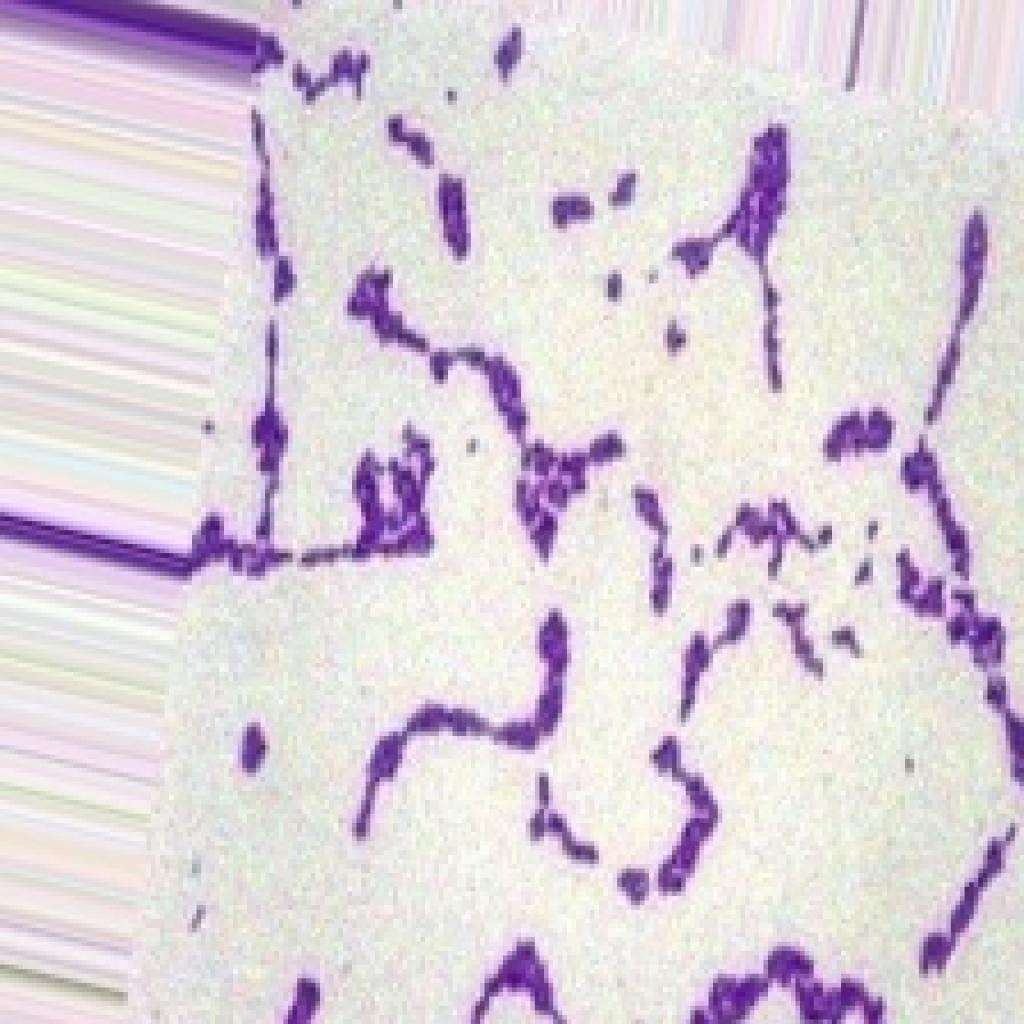Rodbacteria: (100, 0, 1019, 1019)
